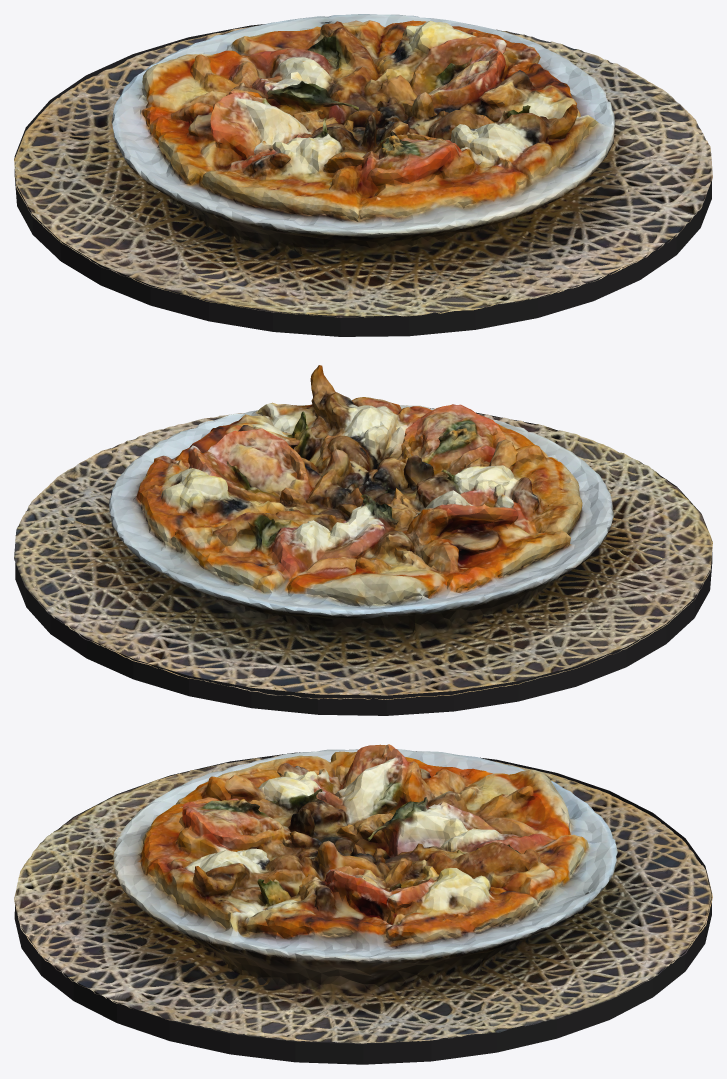
The model's file is 11-Pizza.glb.
The picture shows the model from 3 angles, top to bottom: view 1: azimuth 30°, elevation 25°; view 2: azimuth 150°, elevation 25°; view 3: azimuth 270°, elevation 25°; orthographic projection.
Parts seen in each view (by area): view 1: 11-Pizza; view 2: 11-Pizza; view 3: 11-Pizza.
Boxes of the visible parts, bbox=[...] form: 11-Pizza: bbox=[14, 14, 712, 336]; 11-Pizza: bbox=[14, 365, 712, 715]; 11-Pizza: bbox=[14, 744, 712, 1064].
Size of the model in its own units: 0.4521 by 0.0822 by 0.4522.
2 materials, 1 textured.
